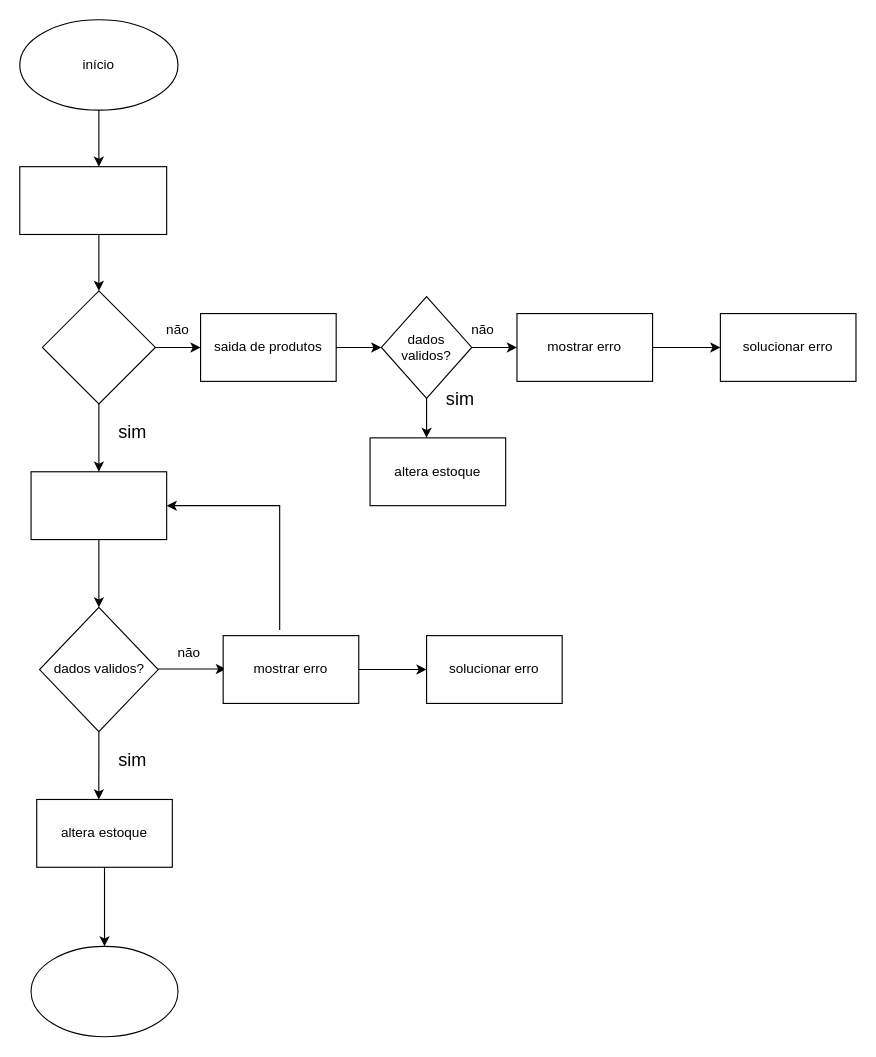
Image size: 876x1057. Some labels were removed from this diagram. Each missing label, with the centre of its shape:
entrada de produtos: point (98, 505)
entrou produto?: point (98, 347)
fim: point (104, 991)
gerente solicita produto: point (93, 200)
